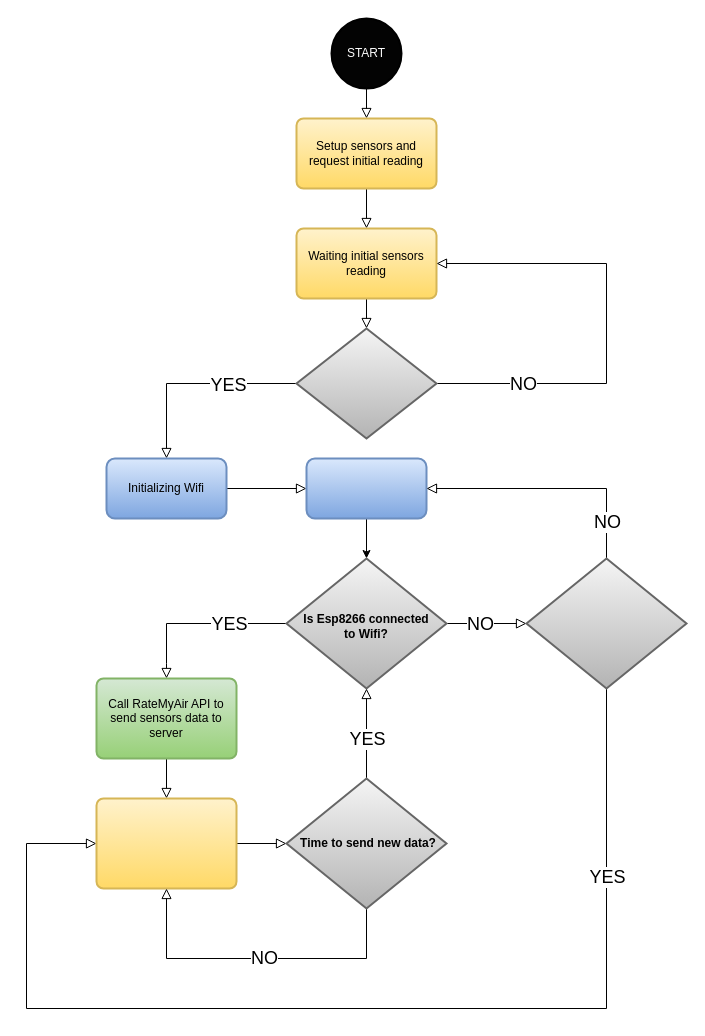
This 705x1036 diagram has some shape labels left out. The centre of each missing label's shape, as x and y in pixels:
"Connecting Wifi" goes at (366,488).
"Is connection timeout expired?" goes at (606,623).
"Reading completed?" goes at (366,383).
"Updating sensors data" goes at (166,843).
